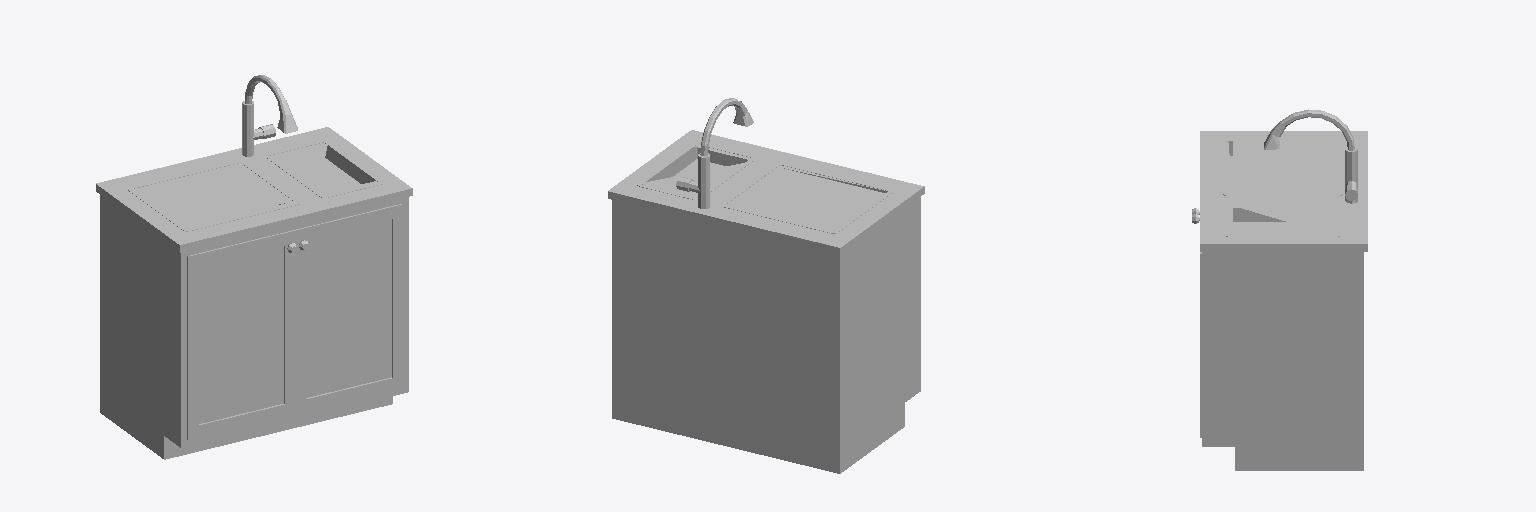
File: Kitchen_Sink.obj
3 views of the same model, side by side, from view 1: azimuth 30°, elevation 25°; view 2: azimuth 150°, elevation 25°; view 3: azimuth 270°, elevation 25° (orthographic).
Visible parts, largest first — view 1: Cube.005, Cube.001, Cube.003, Cube.008; view 2: Cube.005, Cube.008; view 3: Cube.005, Cube.008.
Part boxes in pixels (x1,y1,x2,y2): Cube.005: (96, 101, 412, 459); Cube.001: (187, 230, 296, 440); Cube.003: (296, 204, 402, 413); Cube.008: (245, 75, 297, 133); Cube.005: (608, 130, 924, 473); Cube.008: (700, 98, 753, 156); Cube.005: (1200, 131, 1367, 470); Cube.008: (1264, 109, 1354, 150).
Bounding box in the file's own units: 0.9707 × 1.27 × 0.6359.